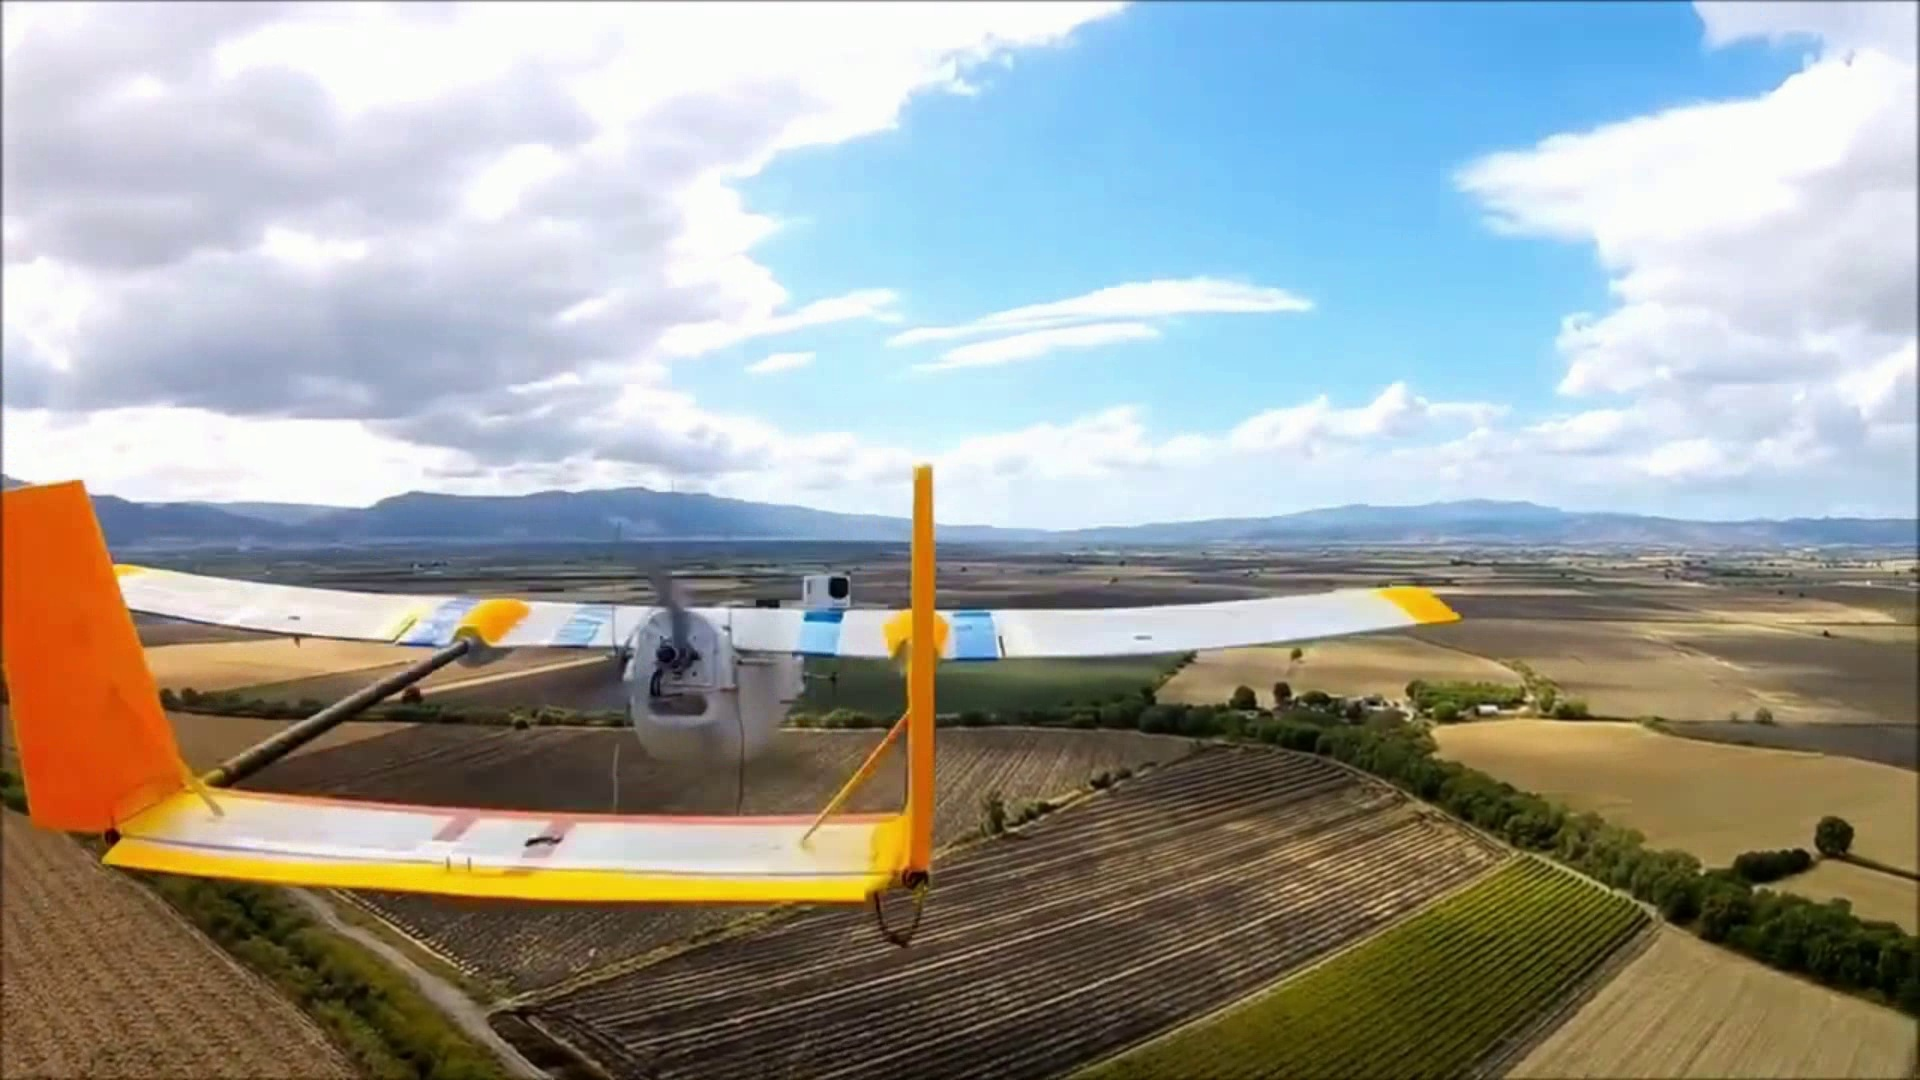airplane: (3, 462, 1477, 931)
